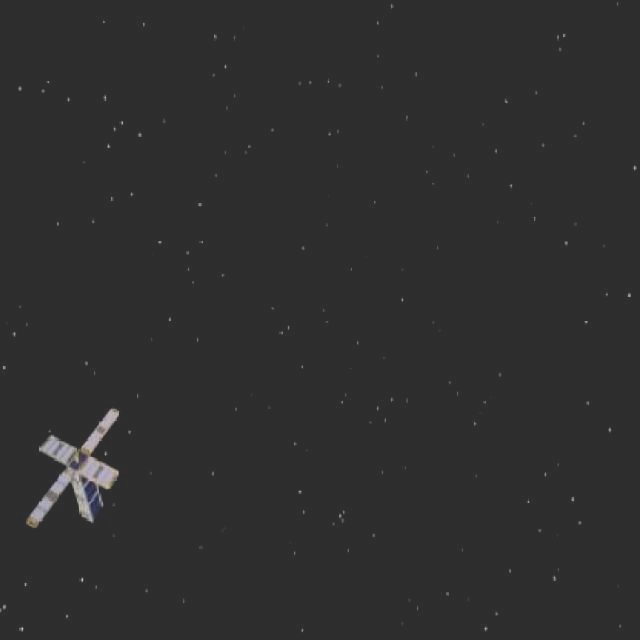satellite: (19, 404, 128, 535)
